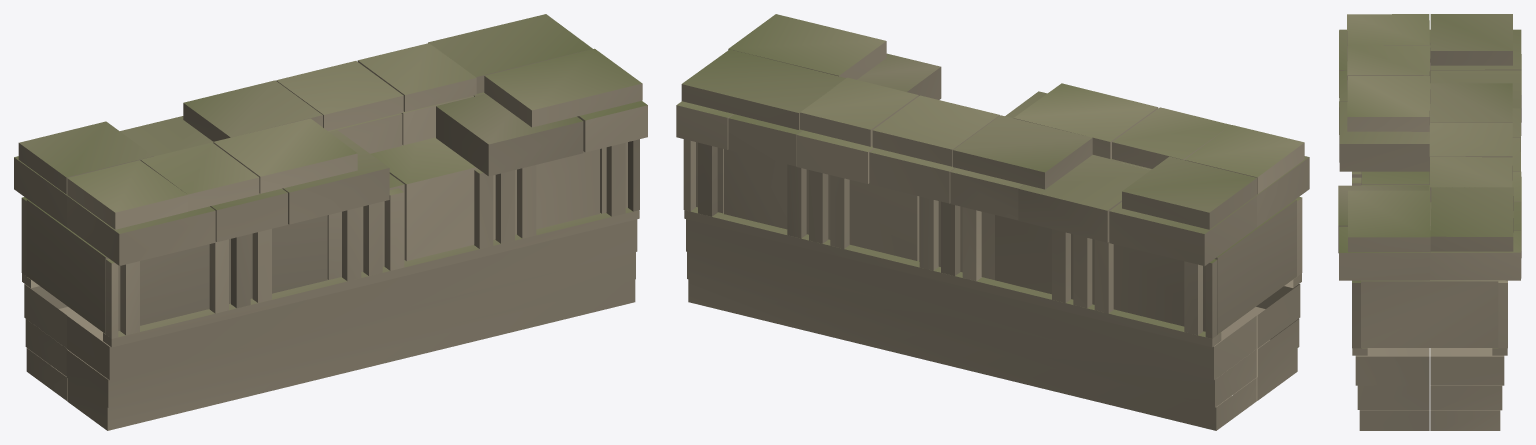
The model's file is lintel_mid.glb.
3 views of the same model, side by side, from view 1: azimuth 30°, elevation 25°; view 2: azimuth 150°, elevation 25°; view 3: azimuth 270°, elevation 25° (orthographic). The views are drawn at different scales.
Visible parts, largest first — view 1: lintel_mid; view 2: lintel_mid; view 3: lintel_mid.
Part boxes in pixels (x1=…): lintel_mid: x1=14, y1=14, x2=647, y2=430; lintel_mid: x1=676, y1=14, x2=1309, y2=430; lintel_mid: x1=1338, y1=14, x2=1521, y2=430.
Size of the model in its own units: 18.51 by 7.48 by 6.42.
